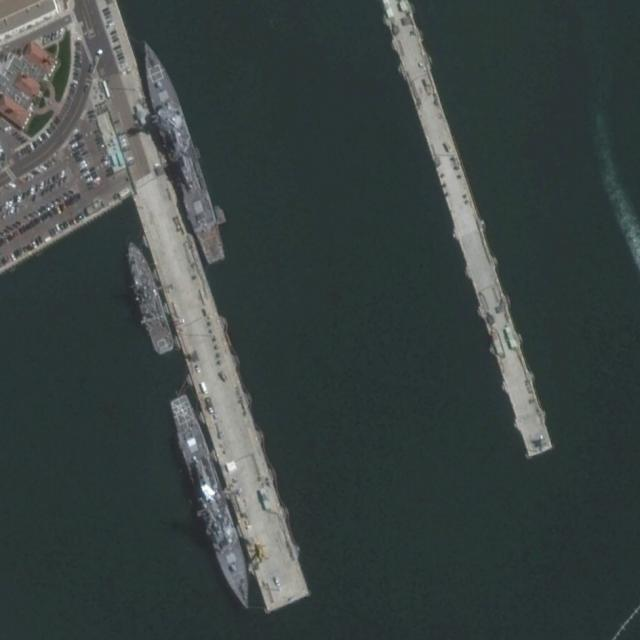Destroyer: (130, 33, 231, 269), (164, 389, 261, 618)
Other Ship: (119, 236, 176, 360)
